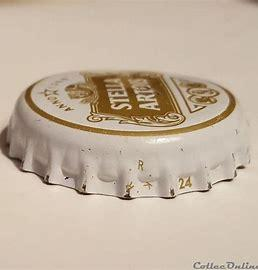metal: (7, 72, 240, 199)
